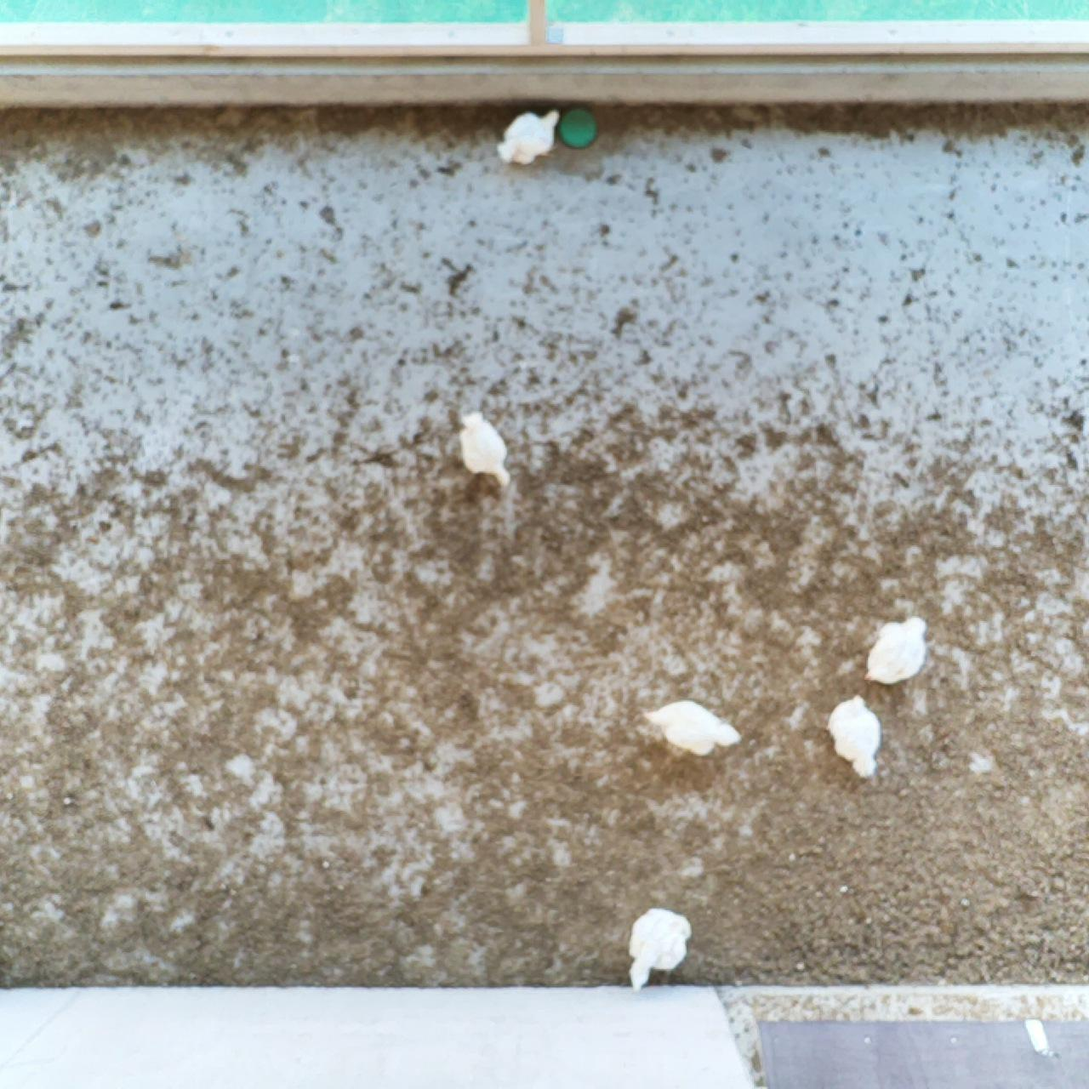chicken: (616, 899, 696, 996), (634, 696, 743, 759), (860, 613, 935, 693), (823, 692, 886, 784), (453, 406, 515, 489), (494, 106, 566, 172)
